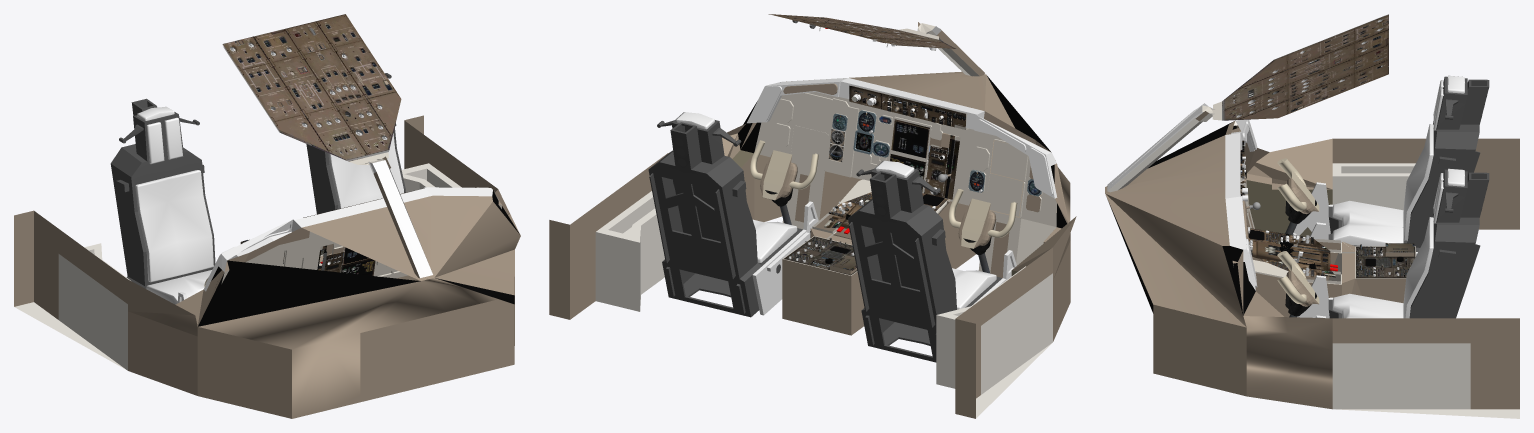
The model's file is PlaneCockpit-transformed.glb.
The picture shows the model from 3 angles, left to right: view 1: azimuth 30°, elevation 25°; view 2: azimuth 150°, elevation 25°; view 3: azimuth 270°, elevation 25°; orthographic projection. The views are drawn at different scales.
Parts seen in each view (by area): view 1: Object_20, Object_9, Object_21, Object_32, Object_12, Object_31, Object_14, Object_33, Object_27; view 2: Object_32, Object_20, Object_33, Object_31, Object_21, Object_27, Object_14, Object_34, Object_9, Object_8, Object_12, Object_46 (+1 smaller); view 3: Object_20, Object_31, Object_32, Object_21, Object_9, Object_14, Object_46, Object_12, Object_5, Object_8, Object_34, Object_33 (+1 smaller).
Part boxes in pixels (x1,y1,x2,y2): Object_20: (14,80,520,418); Object_9: (221,14,401,161); Object_21: (135,106,403,304); Object_32: (110,73,405,288); Object_12: (198,190,519,326); Object_31: (14,159,461,370); Object_14: (203,160,499,291); Object_33: (221,152,501,283); Object_27: (303,190,414,275); Object_32: (648,112,1002,362); Object_20: (549,17,1076,418); Object_33: (755,23,1056,275); Object_31: (595,27,1052,418); Object_21: (676,112,1016,315); Object_27: (849,85,965,199); Object_14: (747,26,1057,198); Object_34: (750,140,1017,248); Object_9: (768,14,956,49); Object_8: (784,236,857,275); Object_12: (738,76,1066,263); Object_46: (824,192,947,228); Object_20: (1105,106,1519,409); Object_31: (1107,107,1519,418); Object_32: (1328,76,1489,318); Object_21: (1293,75,1464,318); Object_9: (1222,14,1388,120); Object_14: (1107,103,1257,290); Object_46: (1248,228,1336,277); Object_12: (1107,121,1403,315); Object_5: (1246,180,1332,237); Object_8: (1356,243,1415,278); Object_34: (1277,158,1319,303); Object_33: (1202,101,1415,284).
Size of the model in its own units: 144 by 96.47 by 127.
36 materials, 14 textured.
